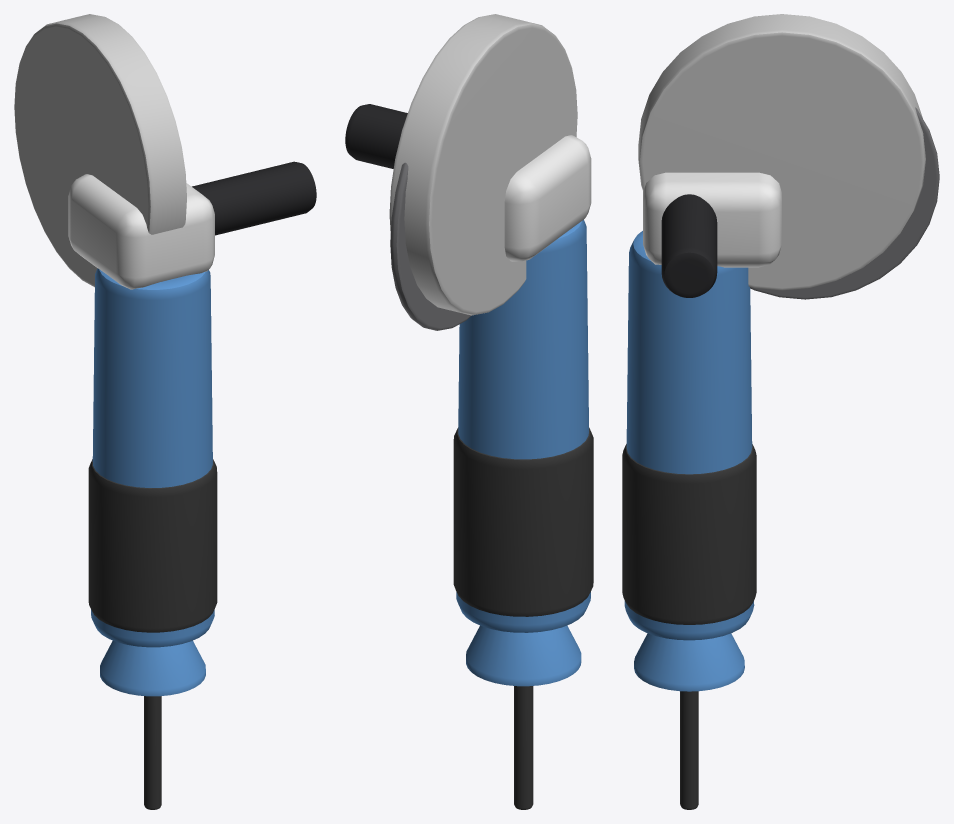
Rendered from industrial.workshop.tool_repair.glb.
The picture shows the model from 3 angles, left to right: view 1: azimuth 30°, elevation 25°; view 2: azimuth 150°, elevation 25°; view 3: azimuth 270°, elevation 25°; orthographic projection. The views are drawn at different scales.
Visible parts, largest first — view 1: main__paint_59c, main__galv_ccc, main__rubber, main__galv_eee, main__paint_222; view 2: main__galv_ccc, main__paint_59c, main__rubber, main__galv_eee, main__galv_777, main__paint_222; view 3: main__galv_ccc, main__paint_59c, main__rubber, main__galv_eee, main__paint_222, main__galv_777.
Part boxes in pixels (<box>): main__paint_59c: <box>91,268,214,696</box>; main__galv_ccc: <box>14,14,186,287</box>; main__rubber: <box>88,459,217,809</box>; main__galv_eee: <box>68,174,214,289</box>; main__paint_222: <box>192,161,316,235</box>; main__galv_ccc: <box>389,14,577,315</box>; main__paint_59c: <box>456,219,590,686</box>; main__rubber: <box>453,427,593,809</box>; main__galv_eee: <box>504,135,591,261</box>; main__galv_777: <box>390,162,471,330</box>; main__paint_222: <box>345,104,407,168</box>; main__galv_ccc: <box>638,14,925,290</box>; main__paint_59c: <box>624,231,754,691</box>; main__rubber: <box>622,444,756,809</box>; main__galv_eee: <box>643,172,781,267</box>; main__paint_222: <box>661,194,717,297</box>; main__galv_777: <box>750,107,939,299</box>.
Bounding box in the file's own units: 0.109 × 0.372 × 0.137.
